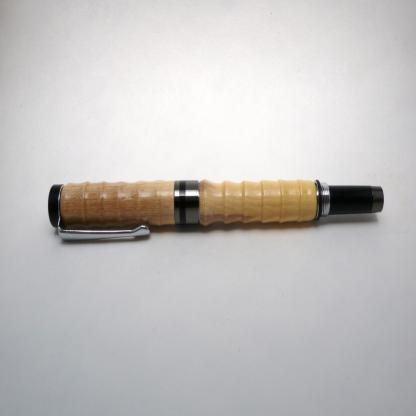Pen: (49, 180, 384, 242)
